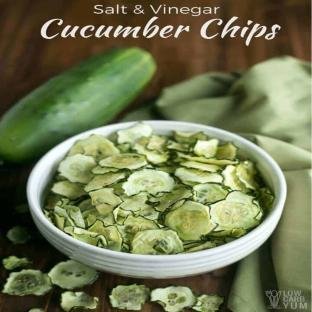Cucumber: (0, 48, 155, 162)
